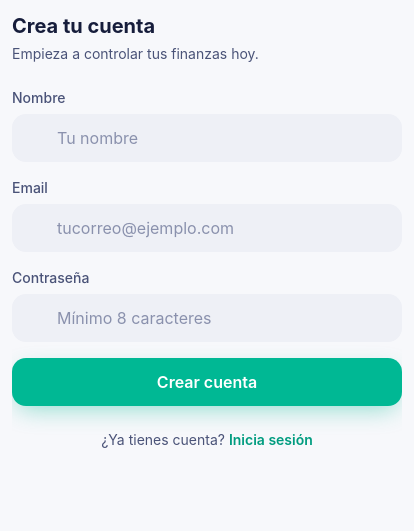
flujos de autenticación restantes › valida el registro y muestra la confirmación tras completarlo
The width and height of the screenshot is (414, 531).
Submit the form, box x1=12 y1=88 x2=402 y2=406
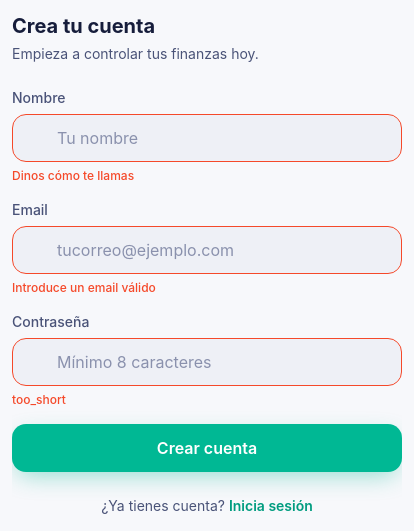
Type "Ana" into the field labelled "Nombre". click: (207, 138)
box: x1=12 y1=114 x2=402 y2=162
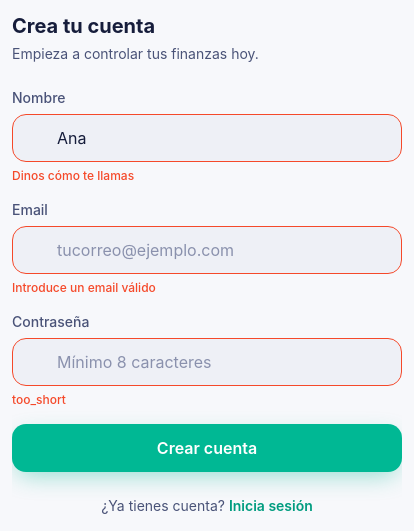
Type "ana@example.com" into the field labelled "Email". click: (207, 250)
box: x1=12 y1=226 x2=402 y2=274
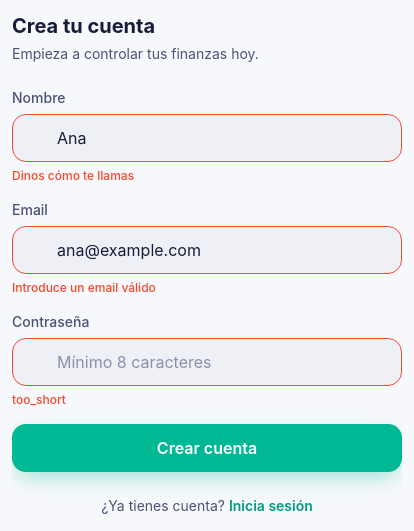
Type "secreto1" into the password field labelled "Contraseña". click: (207, 362)
box: x1=12 y1=338 x2=402 y2=386
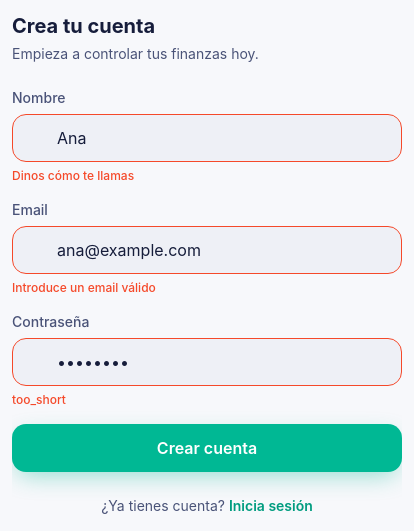
Submit the form
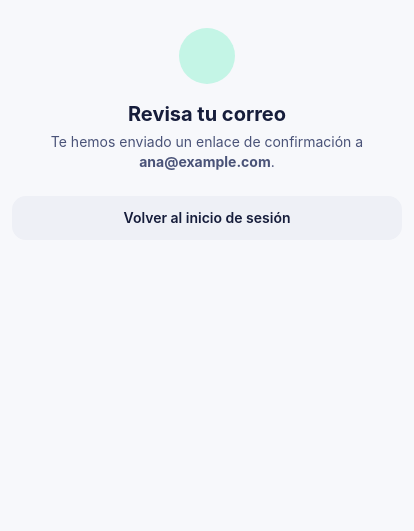
Expected: the text "Revisa tu correo" is shown, x1=128 y1=102 x2=286 y2=126
